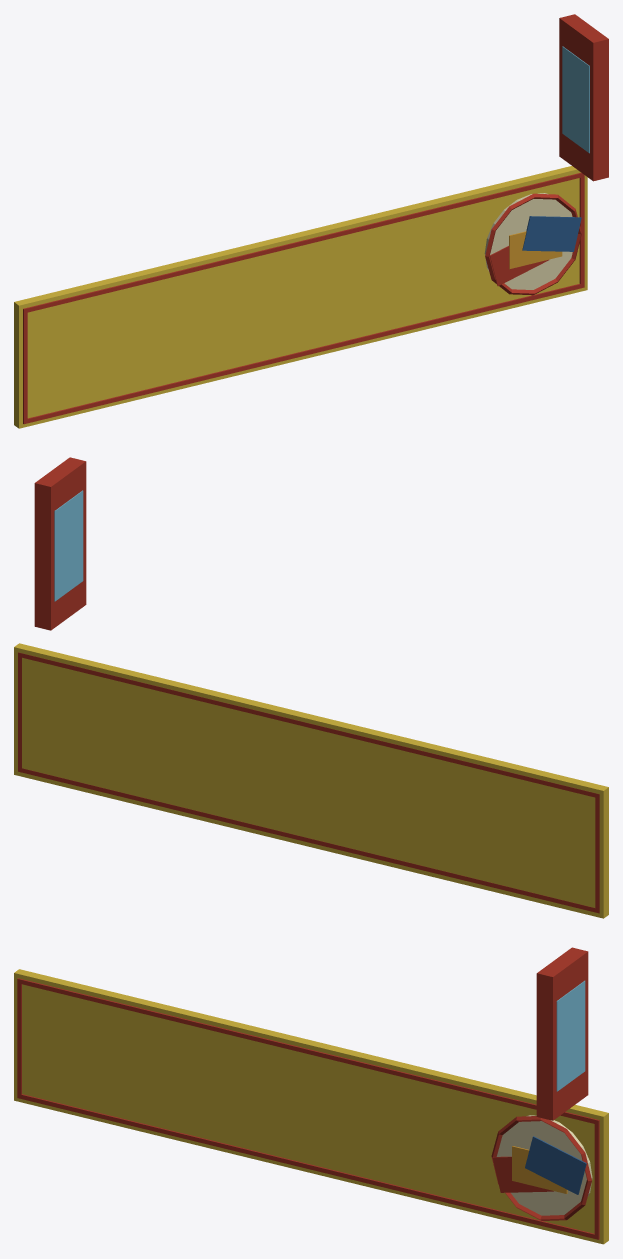
File: bang_dien_thoai_kim_ngan_60.glb
3 views of the same model, one above another, from view 1: azimuth 30°, elevation 25°; view 2: azimuth 150°, elevation 25°; view 3: azimuth 330°, elevation 25° (orthographic). The views are drawn at different scales.
Parts seen in each view (by area): view 1: bang_dien_thoai_kim_ngan_60; view 2: bang_dien_thoai_kim_ngan_60; view 3: bang_dien_thoai_kim_ngan_60.
Boxes of the visible parts, bbox=[...] form: bang_dien_thoai_kim_ngan_60: bbox=[14, 14, 608, 428]; bang_dien_thoai_kim_ngan_60: bbox=[14, 457, 608, 918]; bang_dien_thoai_kim_ngan_60: bbox=[14, 947, 608, 1244].
Bounding box in the file's own units: 5.8 × 2.73 × 0.712.
